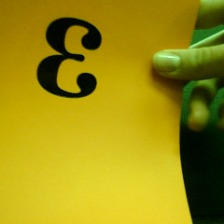orange3: (34, 12, 103, 103)
